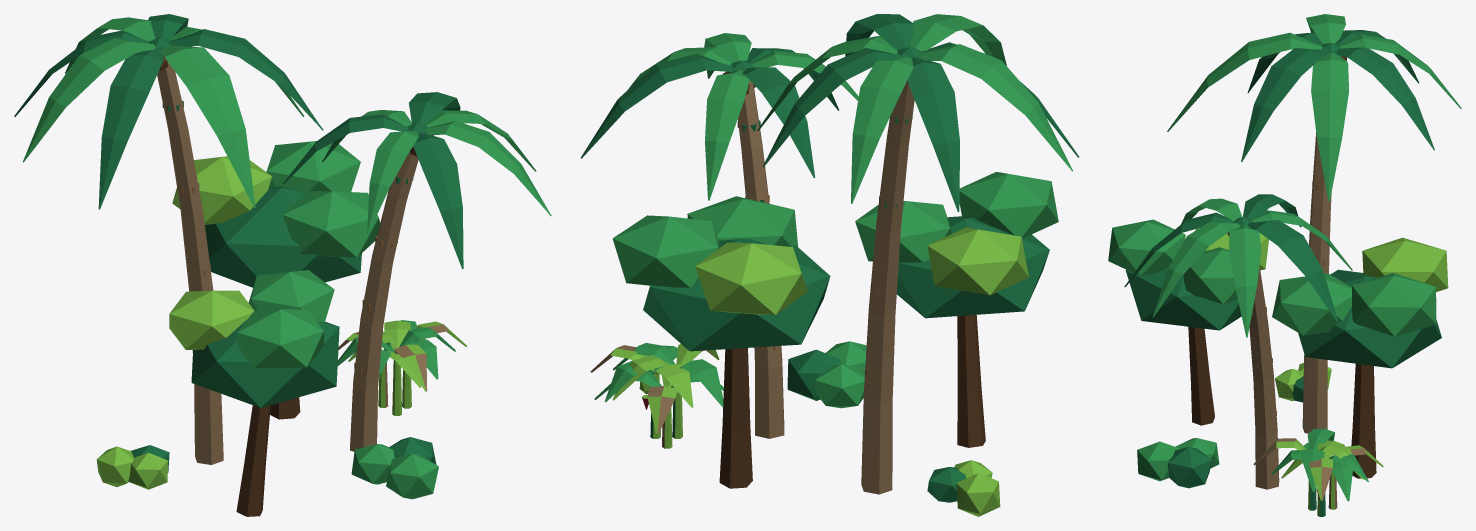
The model's file is Selva B.fbx.
The picture shows the model from 3 angles, left to right: view 1: azimuth 30°, elevation 25°; view 2: azimuth 150°, elevation 25°; view 3: azimuth 270°, elevation 25°; orthographic projection. The views are drawn at different scales.
Visible parts, largest first — view 1: Selva B; view 2: Selva B; view 3: Selva B.
Boxes of the visible parts, x1,y1,x2,y2 form: Selva B: (14, 14, 551, 516); Selva B: (580, 14, 1079, 516); Selva B: (1108, 14, 1461, 516).
Size of the model in its own units: 2.98 by 2.63 by 2.22.
